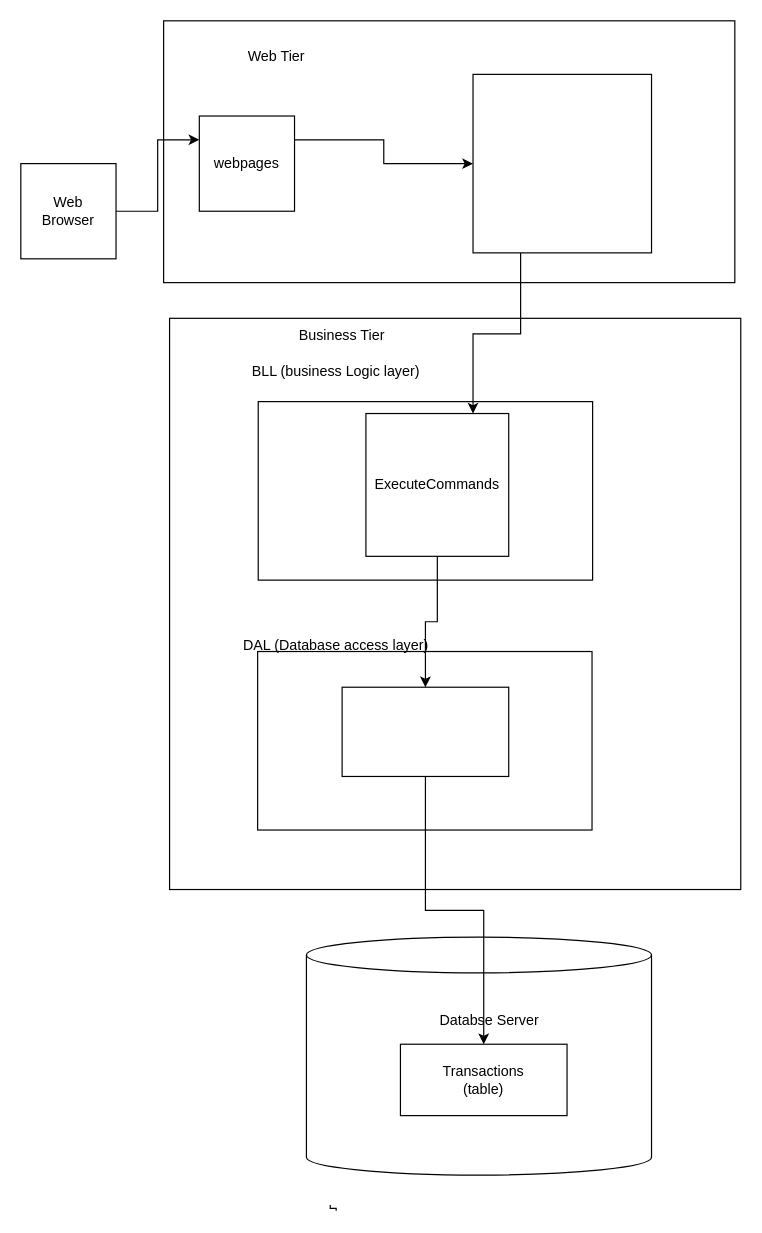
This 762x1233 diagram has some shape labels left out. The shapes that lost their labels are listed below. From the top down, each one's centre as x and y in pixels, then its label:
At (x=562, y=163): "Webpage.cs button1_click Method".
At (x=425, y=731): "SqlParts".
